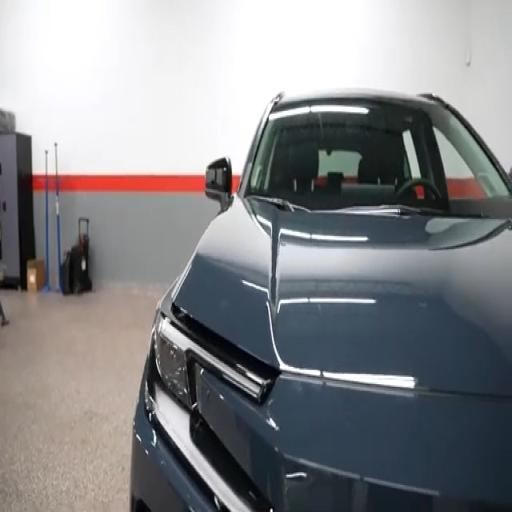bumper: (131, 372, 248, 511), (131, 389, 215, 511)
fog_light: (155, 316, 189, 406)
headlight: (153, 313, 190, 406)
hood: (172, 197, 511, 396)
side_mirror: (205, 158, 231, 203), (508, 168, 511, 180)
window: (246, 101, 510, 209), (319, 150, 361, 177)
windshield: (246, 101, 510, 210)
